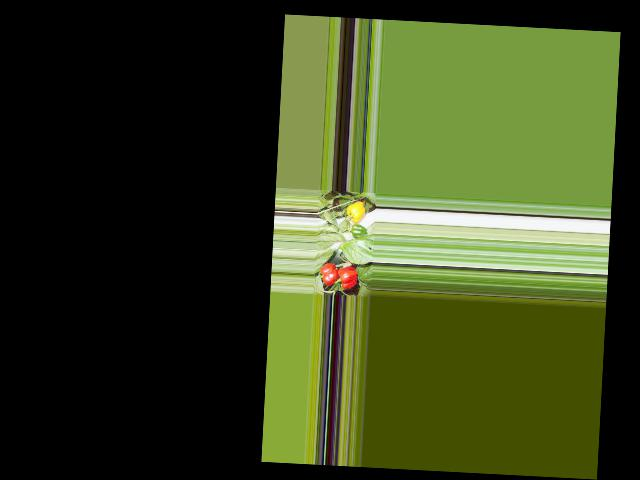bell_pepper: (345, 198, 367, 224)
